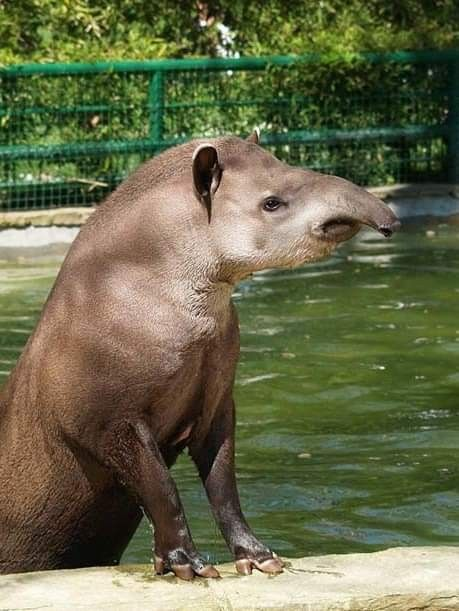Anta: (7, 122, 408, 588)
